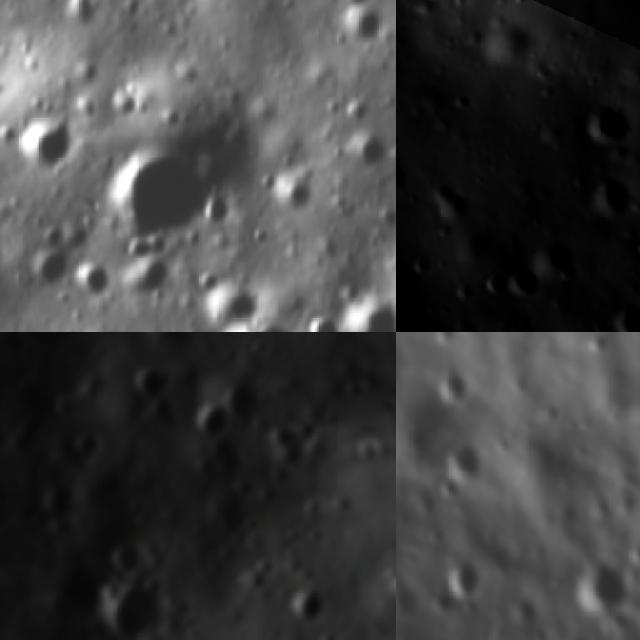crater: (108, 144, 215, 248), (84, 566, 181, 640), (5, 113, 78, 182), (573, 544, 629, 620), (0, 332, 87, 377), (574, 95, 638, 152), (570, 166, 636, 221), (95, 525, 152, 586), (14, 241, 72, 300), (279, 577, 336, 637), (338, 117, 396, 175), (519, 231, 577, 288), (420, 175, 478, 230), (118, 247, 172, 305), (335, 0, 396, 51), (33, 476, 88, 532), (265, 170, 320, 224), (124, 354, 174, 412), (69, 256, 123, 308), (193, 398, 237, 455), (340, 288, 396, 332), (494, 257, 544, 304), (447, 552, 487, 608), (61, 430, 114, 472), (446, 442, 492, 486), (433, 358, 475, 405), (51, 0, 97, 35), (0, 360, 17, 447), (607, 296, 640, 332), (403, 252, 439, 284), (431, 317, 483, 332), (446, 90, 473, 117), (623, 231, 640, 262), (396, 527, 404, 563)
